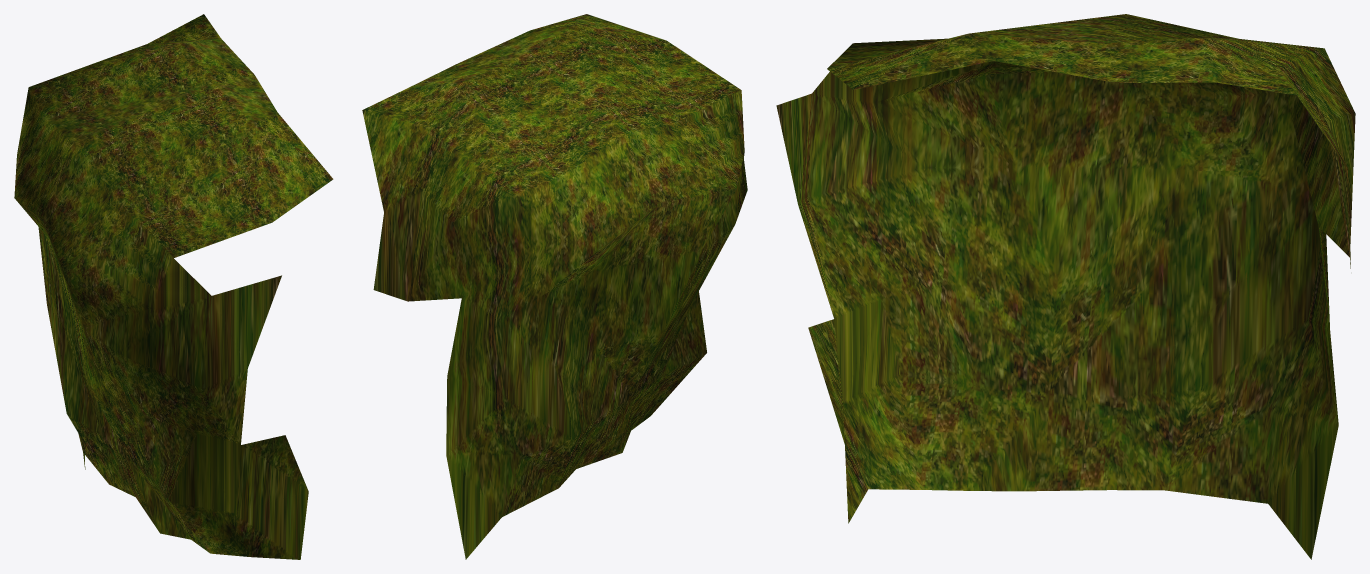
The model's file is TROLLHOLE02_RM_PSURF84.fbx.
3 renders of one model, left to right at view 1: azimuth 30°, elevation 25°; view 2: azimuth 150°, elevation 25°; view 3: azimuth 270°, elevation 25°, orthographic. The views are drawn at different scales.
Parts seen in each view (by area): view 1: TROLLHOLE02_RM_PSURF84; view 2: TROLLHOLE02_RM_PSURF84; view 3: TROLLHOLE02_RM_PSURF84.
Part boxes in pixels (x1,y1,x2,y2): TROLLHOLE02_RM_PSURF84: (14,14,333,559); TROLLHOLE02_RM_PSURF84: (362,14,747,559); TROLLHOLE02_RM_PSURF84: (776,14,1355,559).
Bounding box in the file's own units: 65452 × 107135 × 102183.
1 material, 1 textured.
